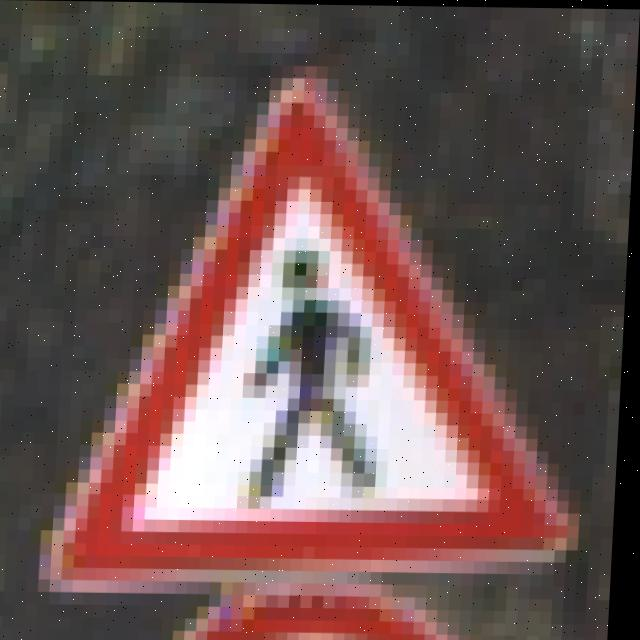crosswalk: (117, 96, 583, 560)
